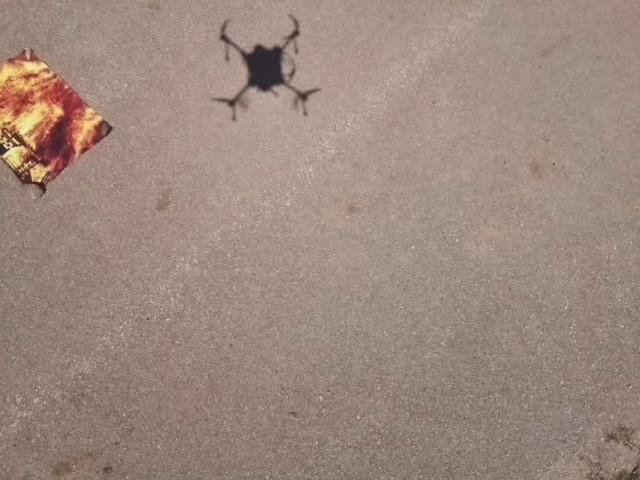fire-poster: (0, 46, 114, 198)
